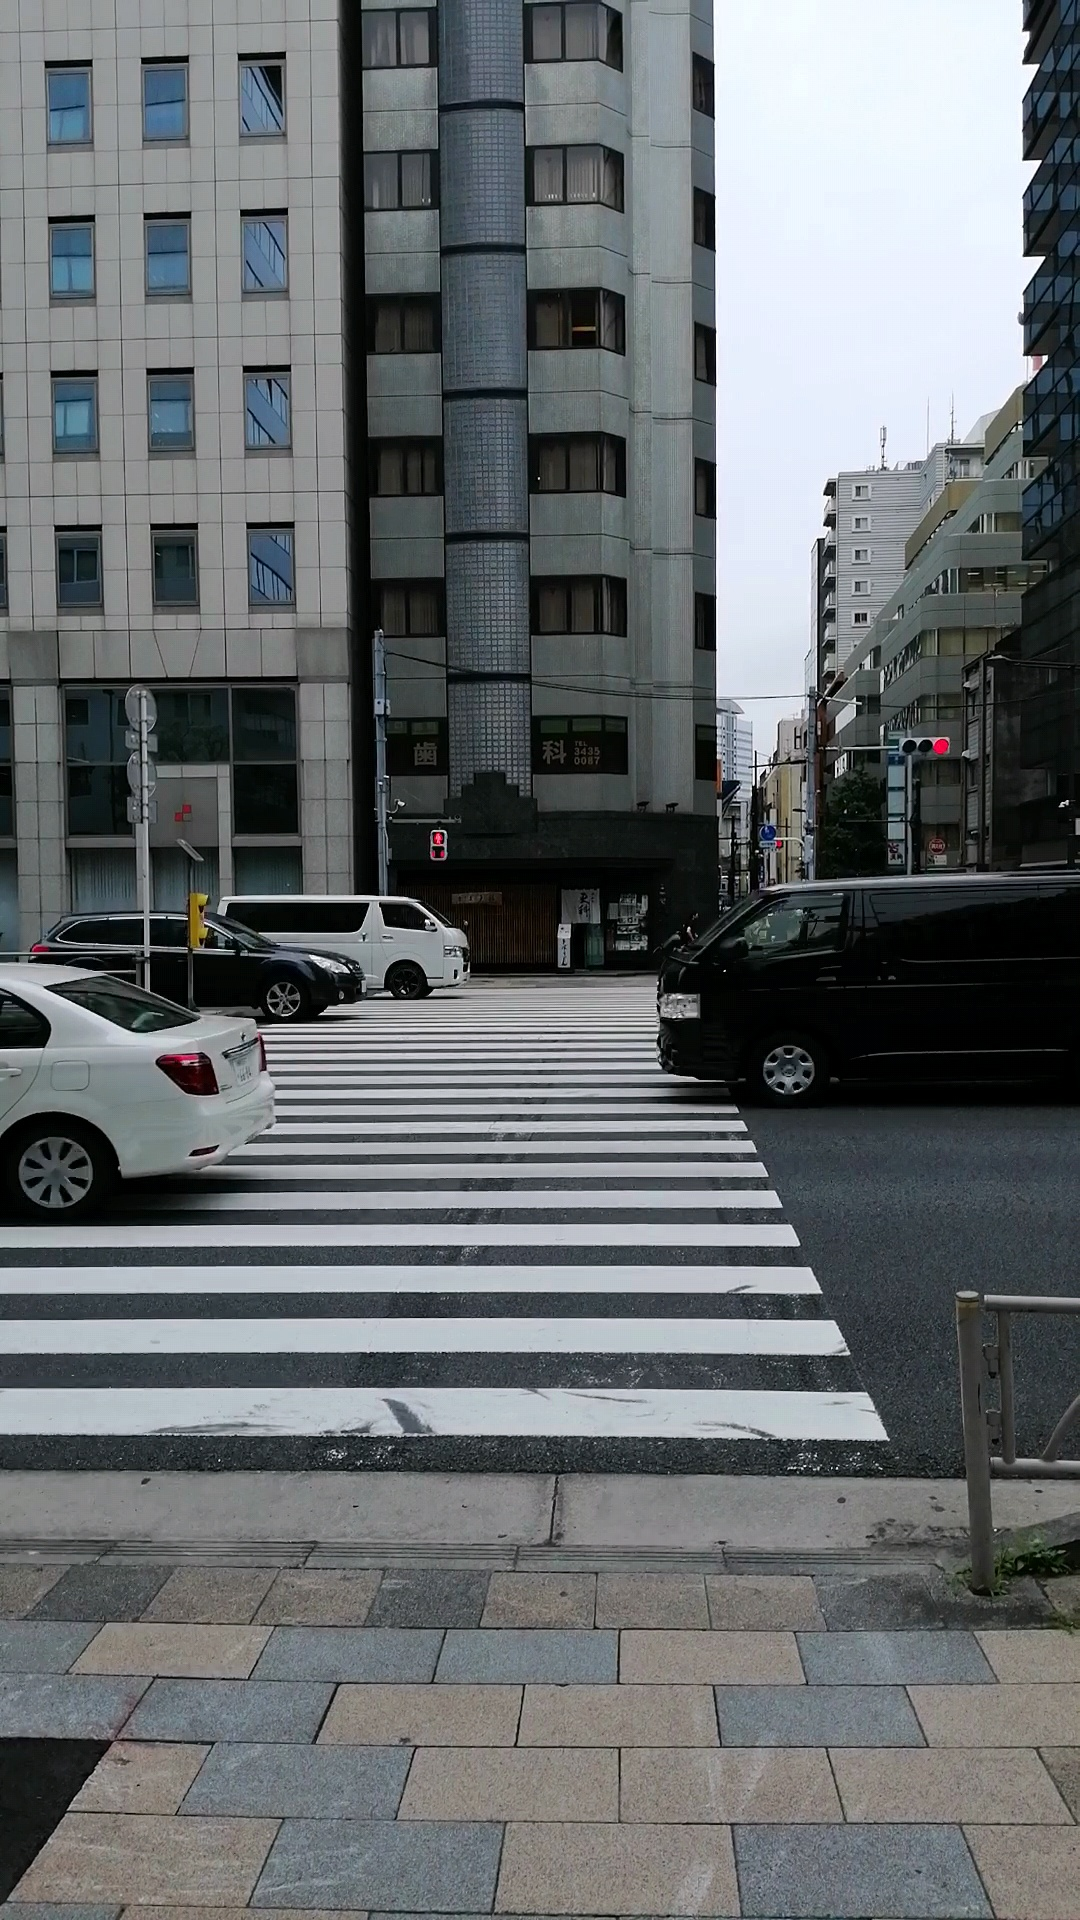red: (430, 828, 447, 861)
